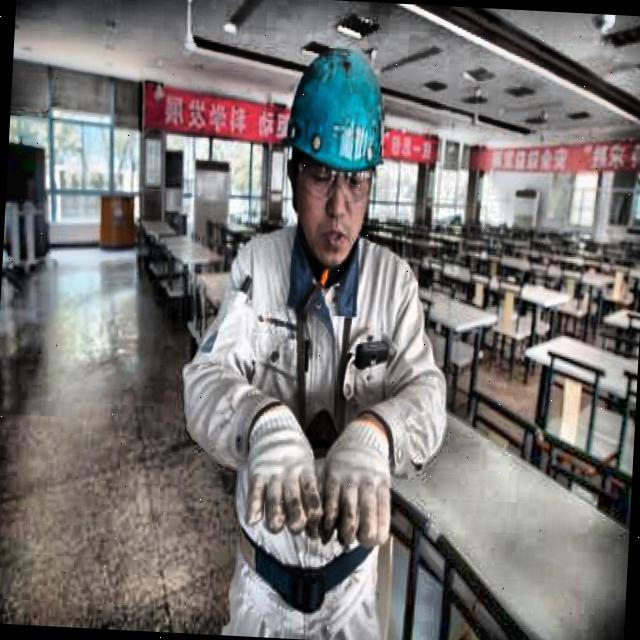helmet: (272, 27, 396, 276)
